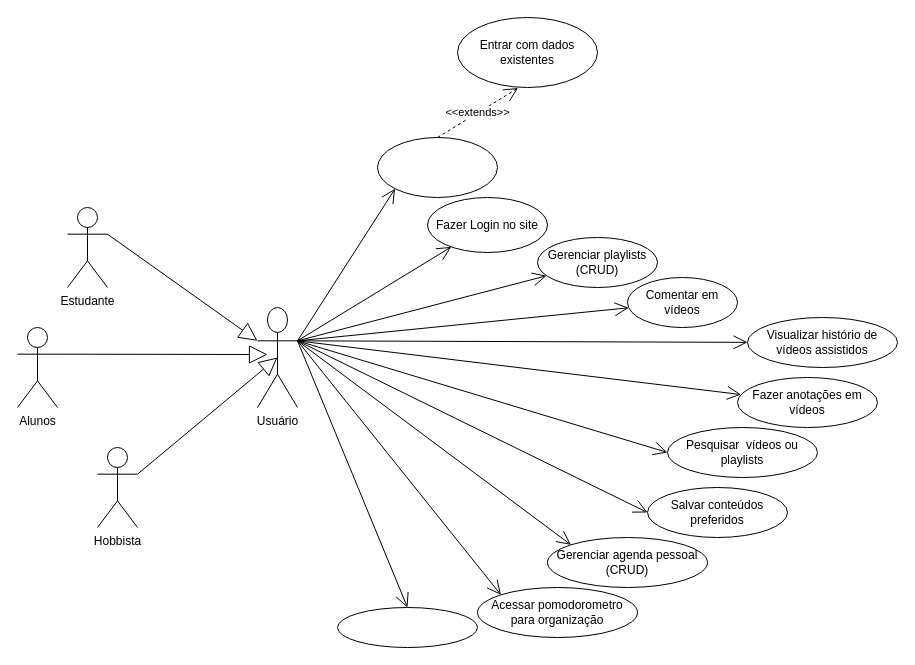
This 915x665 diagram has some shape labels left out. The box of each missing label's shape, as (x1, y1, x2, y2) in pixels:
Assistir vídeos: (336, 606, 478, 648)
Cadastrar dados pessoais: (376, 136, 498, 198)
